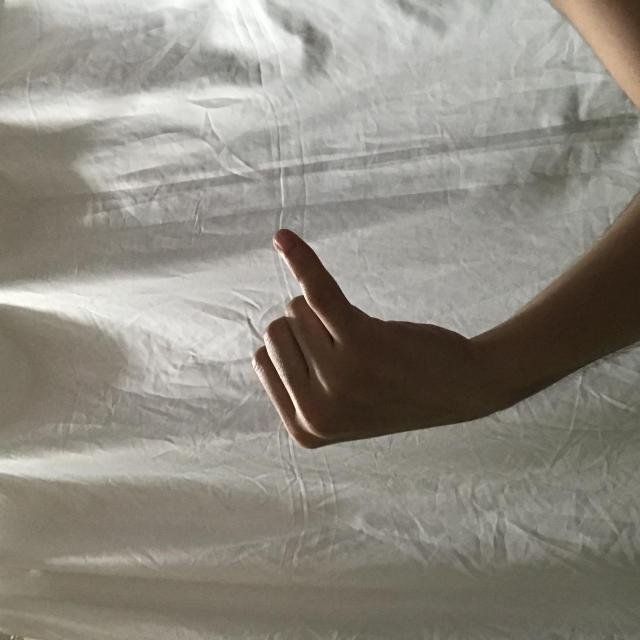J: (191, 250, 412, 470)
